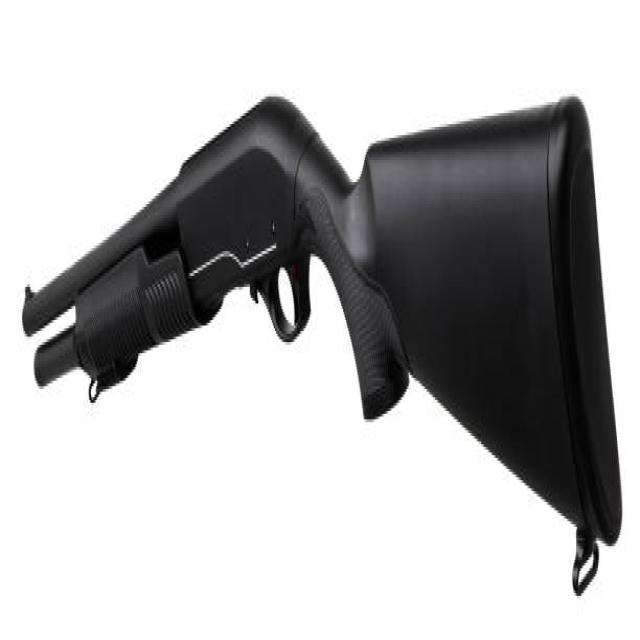rifle: (20, 66, 628, 613)
